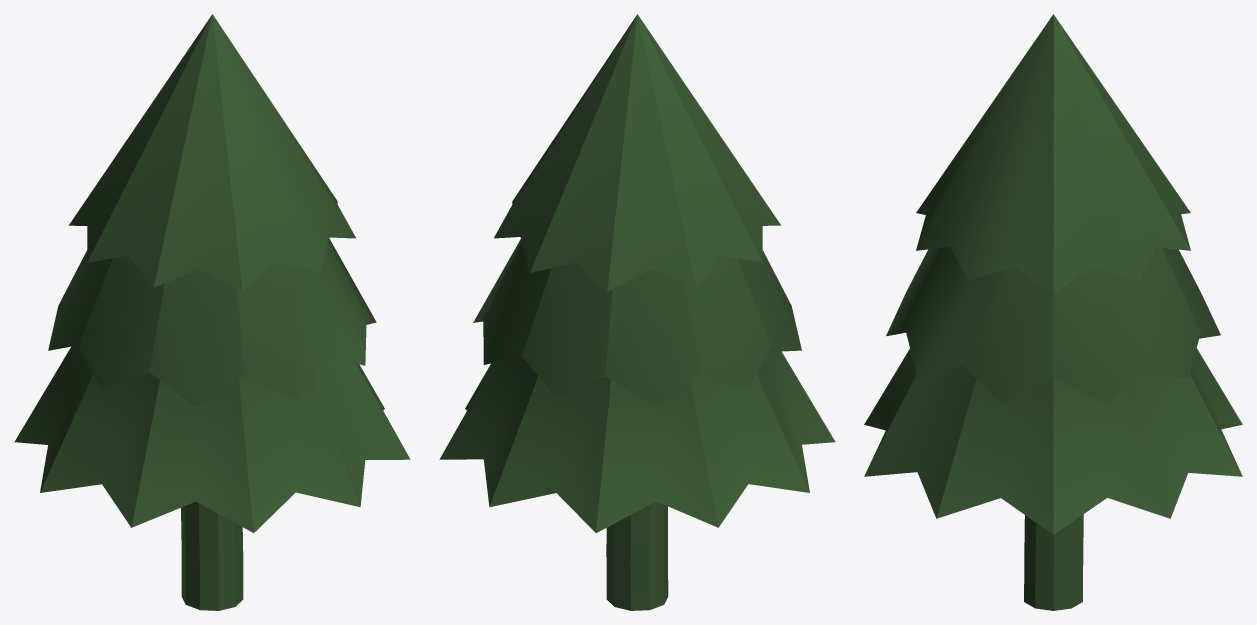
The model's file is tree2_small.fbx.
The picture shows the model from 3 angles, left to right: view 1: azimuth 30°, elevation 25°; view 2: azimuth 150°, elevation 25°; view 3: azimuth 270°, elevation 25°; orthographic projection.
Parts seen in each view (by area): view 1: pCylinder3; view 2: pCylinder3; view 3: pCylinder3.
Part boxes in pixels (box(x1,y1,x2,y2)): pCylinder3: box(14, 14, 410, 610); pCylinder3: box(439, 14, 835, 610); pCylinder3: box(864, 14, 1242, 610).
Bounding box in the file's own units: 9.04 × 14.61 × 8.59.
